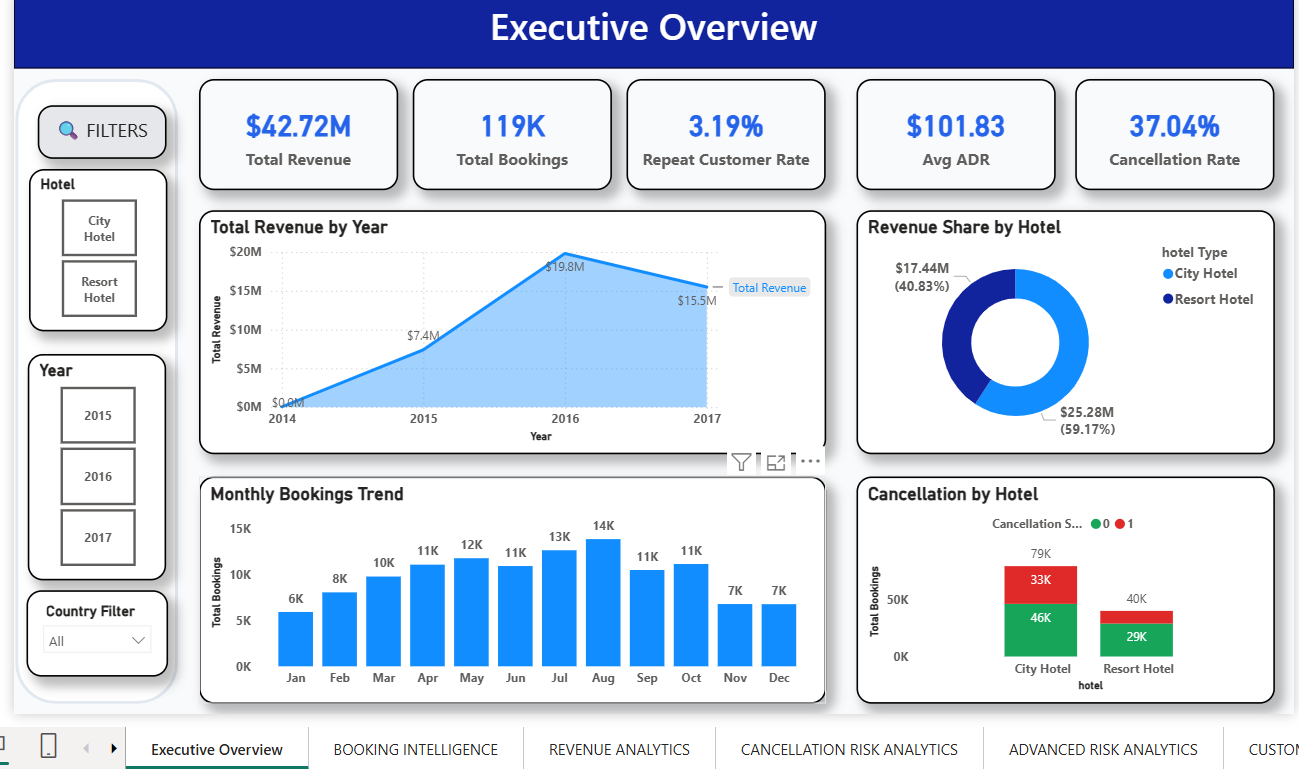

Layout of this report page (visuals, bound fields, positions):
{"tool":"powerbi","page":{"name":"Executive Overview","canvas":[1280,720],"ordinal":0},"visuals":[{"type":"textbox","box":[0,0,1280,74.8],"z":0},{"type":"card","fields":{"Values":["final_hotel_analytics_dataset.Total Revenue"]},"box":[184.6,84.5,199.1,111],"z":1000},{"type":"card","fields":{"Values":["final_hotel_analytics_dataset.Total Bookings"]},"box":[398.1,84.5,199.1,111],"z":2000},{"type":"card","fields":{"Values":["final_hotel_analytics_dataset.Avg ADR"]},"box":[842.1,84.5,199.1,111],"z":3000},{"type":"card","fields":{"Values":["final_hotel_analytics_dataset.Repeat Customer Rate"]},"box":[612.9,84.5,199.1,111],"z":4000},{"type":"card","fields":{"Values":["final_hotel_analytics_dataset.Cancellation Rate"]},"box":[1061.7,84.5,199.1,111],"z":5000},{"type":"lineChart","fields":{"Y":["final_hotel_analytics_dataset.Total Revenue"],"Category":["final_hotel_analytics_dataset.reservation_status_date.Variation.Date Hierarchy.Year","final_hotel_analytics_dataset.reservation_status_date.Variation.Date Hierarchy.Month"]},"box":[184.6,216,627.3,243.7],"z":6000},{"type":"donutChart","title":"Revenue Share by Hotel","fields":{"Category":["final_hotel_analytics_dataset.hotel"],"Y":["final_hotel_analytics_dataset.Total Revenue"]},"box":[842.1,216,418.6,243.7],"z":7000},{"type":"clusteredColumnChart","title":"Monthly Bookings Trend","fields":{"Y":["final_hotel_analytics_dataset.Total Bookings"],"Category":["final_hotel_analytics_dataset.Month Name"]},"box":[184.6,482.6,627.3,226.8],"z":8000},{"type":"shape","box":[1.2,84.5,162.9,624.9],"z":9000},{"type":"columnChart","title":"Cancellation by Hotel","fields":{"Category":["final_hotel_analytics_dataset.hotel"],"Y":["final_hotel_analytics_dataset.Total Bookings"],"Series":["final_hotel_analytics_dataset.is_canceled"]},"box":[842.1,482.6,418.6,226.8],"z":10000},{"type":"textbox","box":[23.8,111.2,128.8,53.8],"z":11000},{"type":"slicer","title":"Hotel","fields":{"Values":["final_hotel_analytics_dataset.hotel"]},"box":[15,175,138.8,162.5],"z":14500},{"type":"slicer","title":"Year","fields":{"Values":["final_hotel_analytics_dataset.arrival_date_year"]},"box":[13.8,360,138.8,226.2],"z":15000},{"type":"slicer","title":"Country Filter","fields":{"Values":["final_hotel_analytics_dataset.country"]},"box":[12.5,596.2,141.2,86.2],"z":15500}]}

Visuals, with their boxes in screenshot pixels (x1, y1, x2, y2):
textbox: (10,0,1291,65)
card - final_hotel_analytics_dataset.Total Revenue: (195,74,394,186)
card - final_hotel_analytics_dataset.Total Bookings: (409,74,608,186)
card - final_hotel_analytics_dataset.Avg ADR: (853,74,1052,186)
card - final_hotel_analytics_dataset.Repeat Customer Rate: (624,74,823,186)
card - final_hotel_analytics_dataset.Cancellation Rate: (1073,74,1272,186)
lineChart - final_hotel_analytics_dataset.Total Revenue x final_hotel_analytics_dataset.reservation_status_date.Variation.Date Hierarchy.Year: (195,206,823,450)
"Revenue Share by Hotel" donutChart: (853,206,1272,450)
"Monthly Bookings Trend" clusteredColumnChart: (195,473,823,700)
shape: (11,74,174,700)
"Cancellation by Hotel" columnChart: (853,473,1272,700)
textbox: (34,101,163,155)
"Hotel" slicer: (25,165,164,328)
"Year" slicer: (24,350,163,577)
"Country Filter" slicer: (23,587,164,673)
